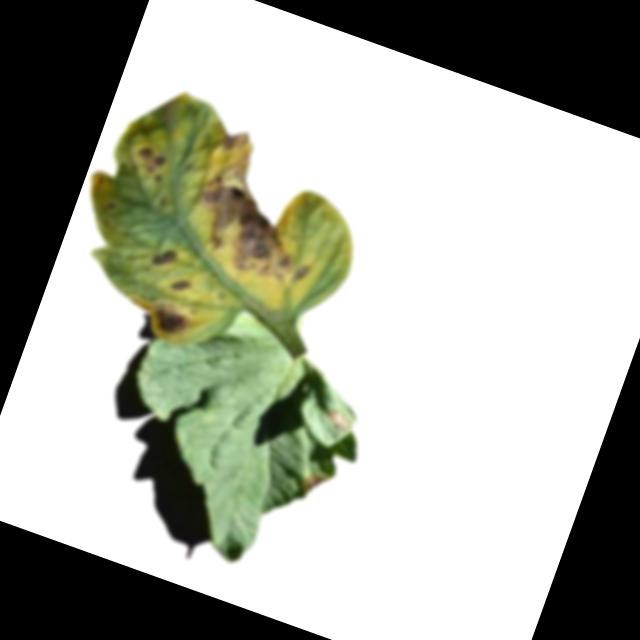Early_blight: (173, 122, 349, 298), (143, 300, 193, 341), (130, 145, 171, 185), (297, 467, 330, 498), (320, 407, 354, 435), (148, 246, 176, 275), (167, 276, 189, 299)
